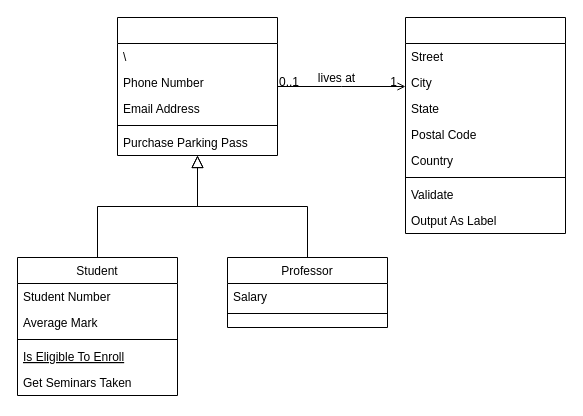
This 583x416 diagram has some shape labels left out. Here are the shapes that lost their labels. From the top down, the box of each, then its label:
(116, 16, 278, 156): Person
(404, 16, 566, 234): Address
